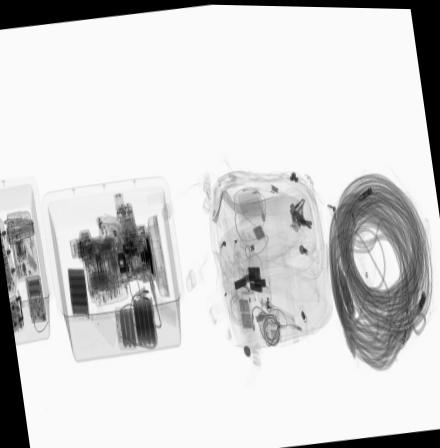Powerbank: (130, 297, 157, 344), (24, 274, 46, 326), (66, 268, 88, 315), (112, 308, 136, 347)
